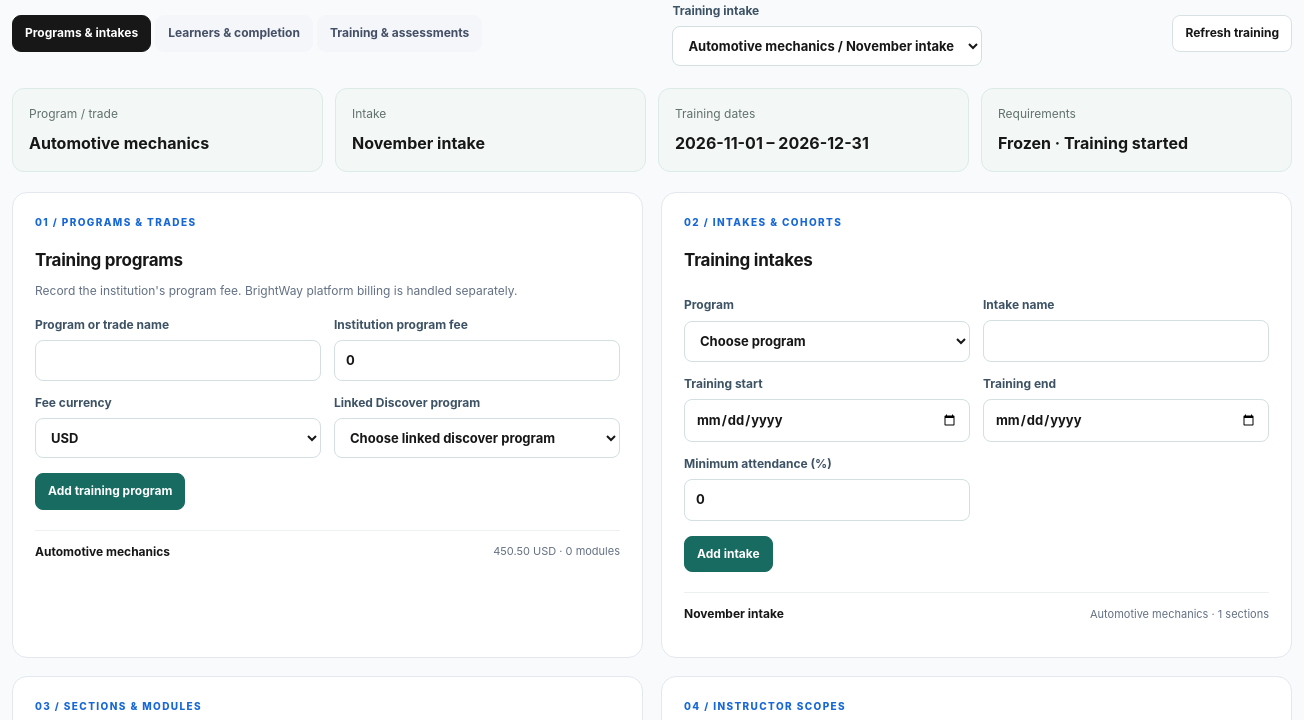
Test: clears academic content after authority is revoked
(page scrolled)
Step 1. Type "Welding" into the field labelled "Program or trade name" → (178, 361), box [35,340,321,381]
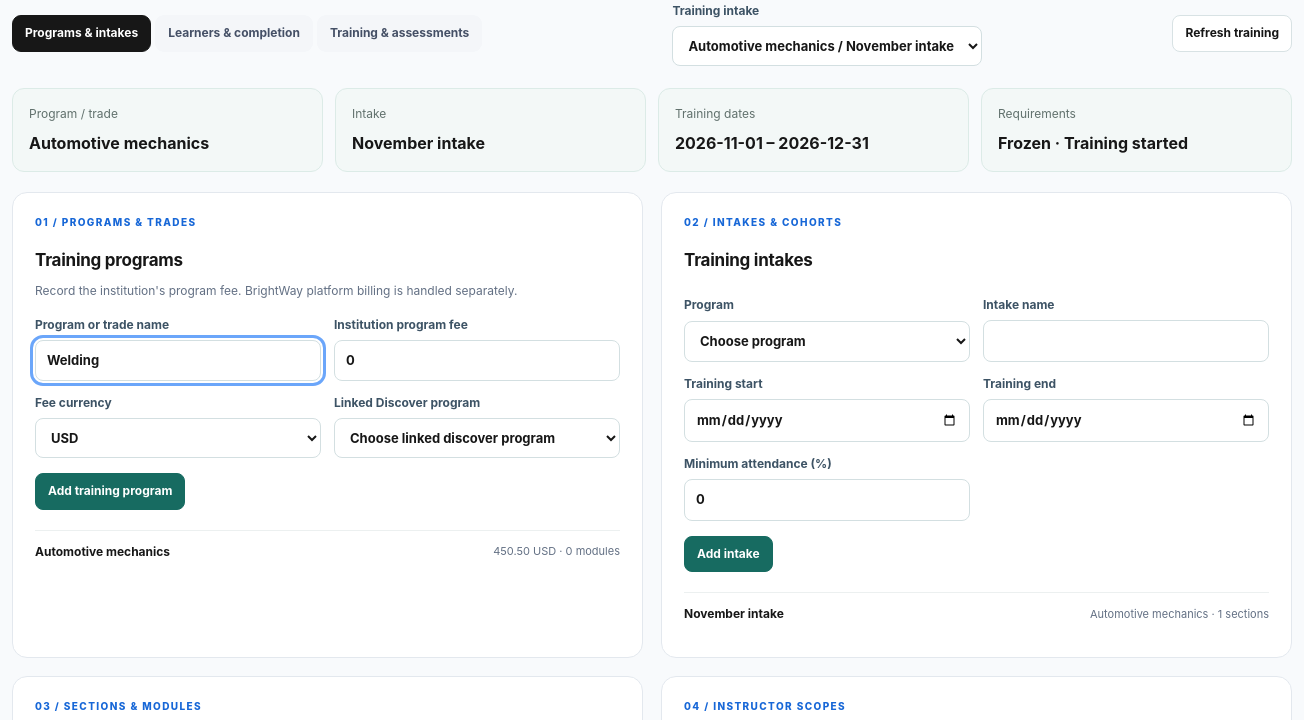
Step 2. Click the button "Add training program" → click(110, 492), box [35,473,185,510]
(page scrolled)
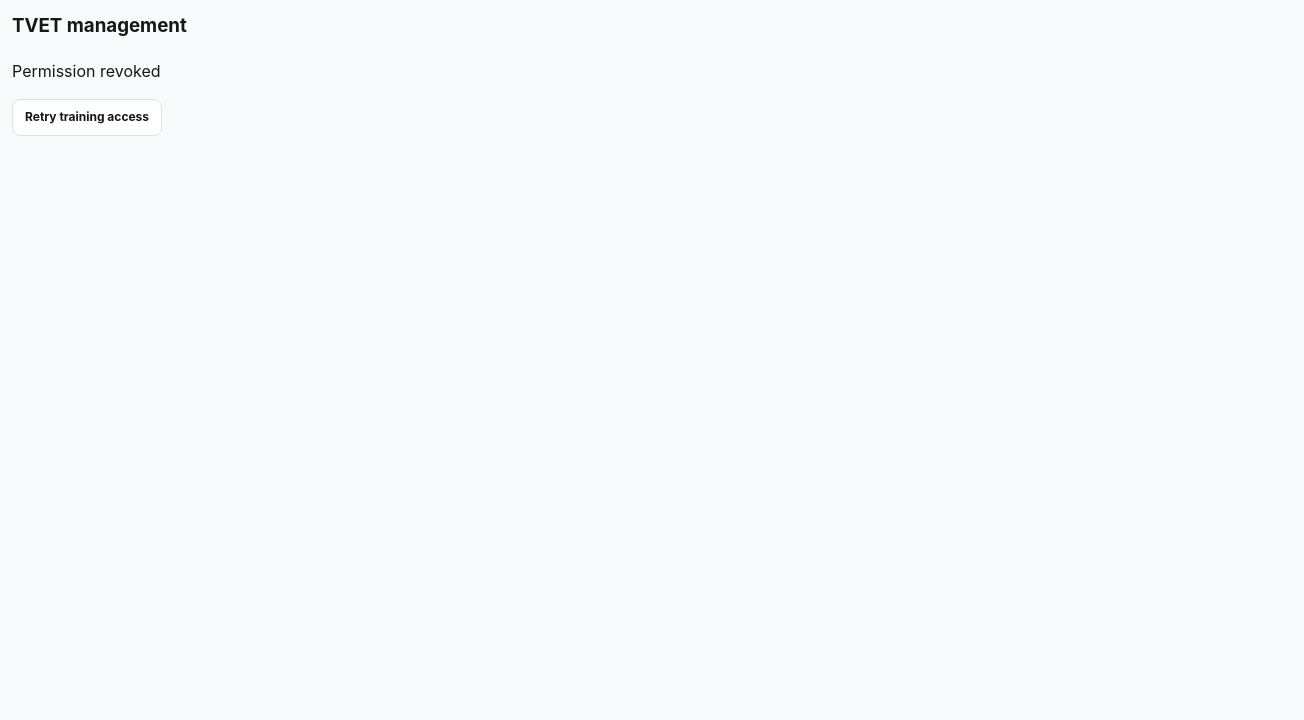
Check: the text "Permission revoked" is shown, box [12,61,160,81]
Check: the label labelled "Program or trade name" is gone
